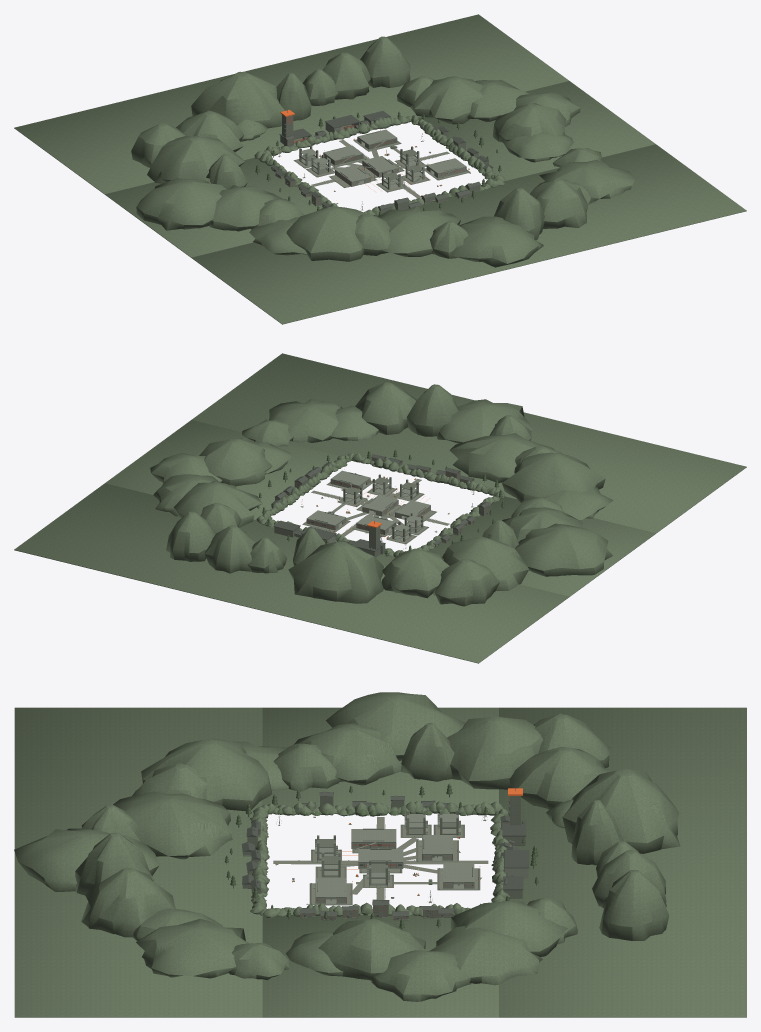
Rendered from renshujo-lod0.glb.
3 renders of one model, top to bottom at view 1: azimuth 30°, elevation 25°; view 2: azimuth 150°, elevation 25°; view 3: azimuth 270°, elevation 25°, orthographic. The views are drawn at different scales.
Parts seen in each view (by area): view 1: HB_renshujo_LOD0_terrain, HB_renshujo_LOD0_wall, HB_renshujo_LOD0_wall_alt, HB_renshujo_LOD0_trim, HB_renshujo_LOD0_road, HB_renshujo_LOD0_natural; view 2: HB_renshujo_LOD0_terrain, HB_renshujo_LOD0_wall, HB_renshujo_LOD0_wall_alt, HB_renshujo_LOD0_trim, HB_renshujo_LOD0_road, HB_renshujo_LOD0_natural; view 3: HB_renshujo_LOD0_terrain, HB_renshujo_LOD0_wall, HB_renshujo_LOD0_wall_alt, HB_renshujo_LOD0_trim, HB_renshujo_LOD0_road, HB_renshujo_LOD0_natural.
Part boxes in pixels (x1=…): HB_renshujo_LOD0_terrain: x1=14, y1=14, x2=746, y2=324; HB_renshujo_LOD0_wall: x1=299, y1=122, x2=466, y2=189; HB_renshujo_LOD0_wall_alt: x1=271, y1=114, x2=493, y2=213; HB_renshujo_LOD0_trim: x1=257, y1=109, x2=499, y2=209; HB_renshujo_LOD0_road: x1=278, y1=140, x2=470, y2=210; HB_renshujo_LOD0_natural: x1=254, y1=111, x2=501, y2=215; HB_renshujo_LOD0_terrain: x1=14, y1=353, x2=746, y2=663; HB_renshujo_LOD0_wall: x1=301, y1=470, x2=430, y2=543; HB_renshujo_LOD0_wall_alt: x1=271, y1=455, x2=491, y2=557; HB_renshujo_LOD0_trim: x1=258, y1=454, x2=503, y2=556; HB_renshujo_LOD0_road: x1=301, y1=477, x2=473, y2=551; HB_renshujo_LOD0_natural: x1=257, y1=449, x2=504, y2=555; HB_renshujo_LOD0_terrain: x1=14, y1=692, x2=746, y2=1017; HB_renshujo_LOD0_wall: x1=292, y1=810, x2=528, y2=903; HB_renshujo_LOD0_wall_alt: x1=242, y1=792, x2=525, y2=920; HB_renshujo_LOD0_trim: x1=226, y1=783, x2=536, y2=928; HB_renshujo_LOD0_road: x1=273, y1=816, x2=488, y2=905; HB_renshujo_LOD0_natural: x1=224, y1=783, x2=562, y2=928.
Size of the model in its own units: 620 by 54.9 by 621.
Materials: 10 (8 with a texture image).
